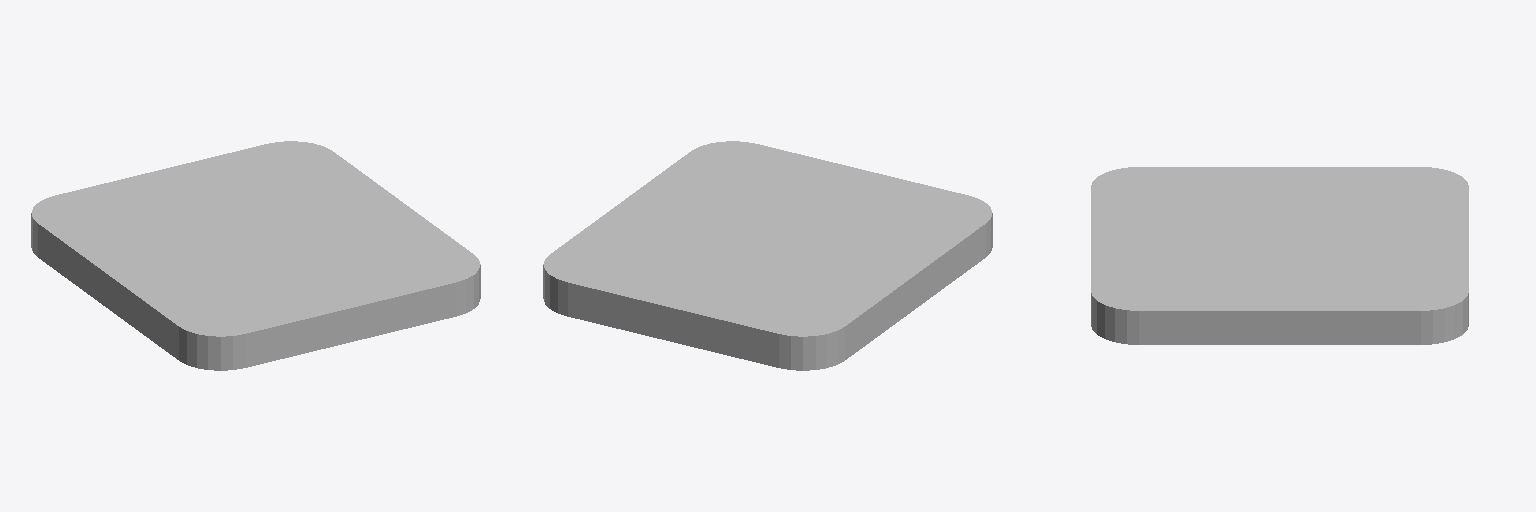
The model's file is original-4.obj.
The picture shows the model from 3 angles: view 1: azimuth 30°, elevation 25°; view 2: azimuth 150°, elevation 25°; view 3: azimuth 270°, elevation 25°; orthographic projection.
Parts seen in each view (by area): view 1: mesh3/mesh3-geometry#mesh3-geometry; view 2: mesh3/mesh3-geometry#mesh3-geometry; view 3: mesh3/mesh3-geometry#mesh3-geometry.
Part boxes in pixels (left/top/right/bottom): mesh3/mesh3-geometry#mesh3-geometry: left=31, top=141, right=480, bottom=370; mesh3/mesh3-geometry#mesh3-geometry: left=543, top=141, right=992, bottom=370; mesh3/mesh3-geometry#mesh3-geometry: left=1091, top=167, right=1468, bottom=344.
Size of the model in its own units: 0.058 by 0.0064 by 0.0644.